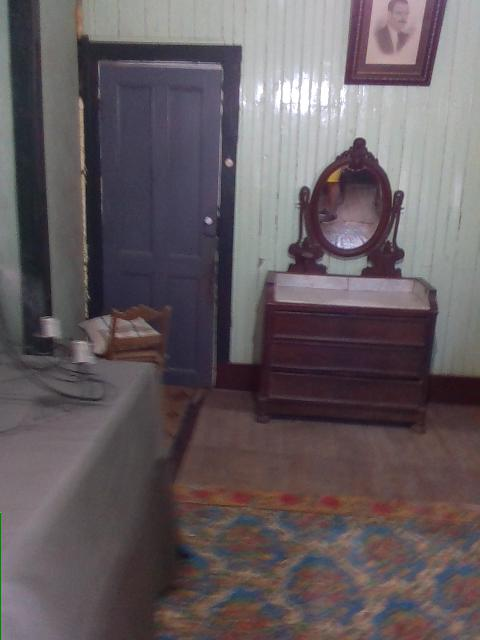closed_door: (89, 49, 230, 297)
